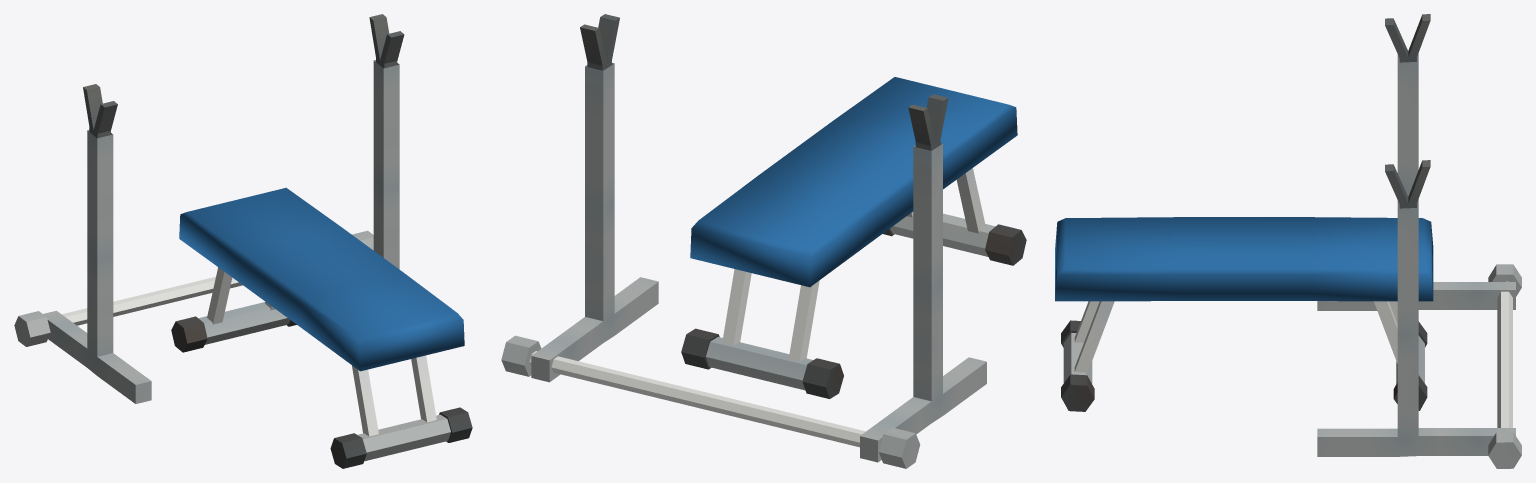
File: barbell_chair.glb
The picture shows the model from 3 angles, left to right: view 1: azimuth 30°, elevation 25°; view 2: azimuth 150°, elevation 25°; view 3: azimuth 270°, elevation 25°; orthographic projection. The views are drawn at different scales.
Visible parts, largest first — view 1: GymEquipments_11_GymEquipments_SG_0; view 2: GymEquipments_11_GymEquipments_SG_0; view 3: GymEquipments_11_GymEquipments_SG_0.
Part boxes in pixels (x1,y1,x2,y2): GymEquipments_11_GymEquipments_SG_0: (14,14,472,468); GymEquipments_11_GymEquipments_SG_0: (501,14,1026,468); GymEquipments_11_GymEquipments_SG_0: (1055,14,1521,468).
Size of the model in its own units: 0.7753 by 0.5876 by 0.8587.
Materials: 1 (1 with a texture image).
